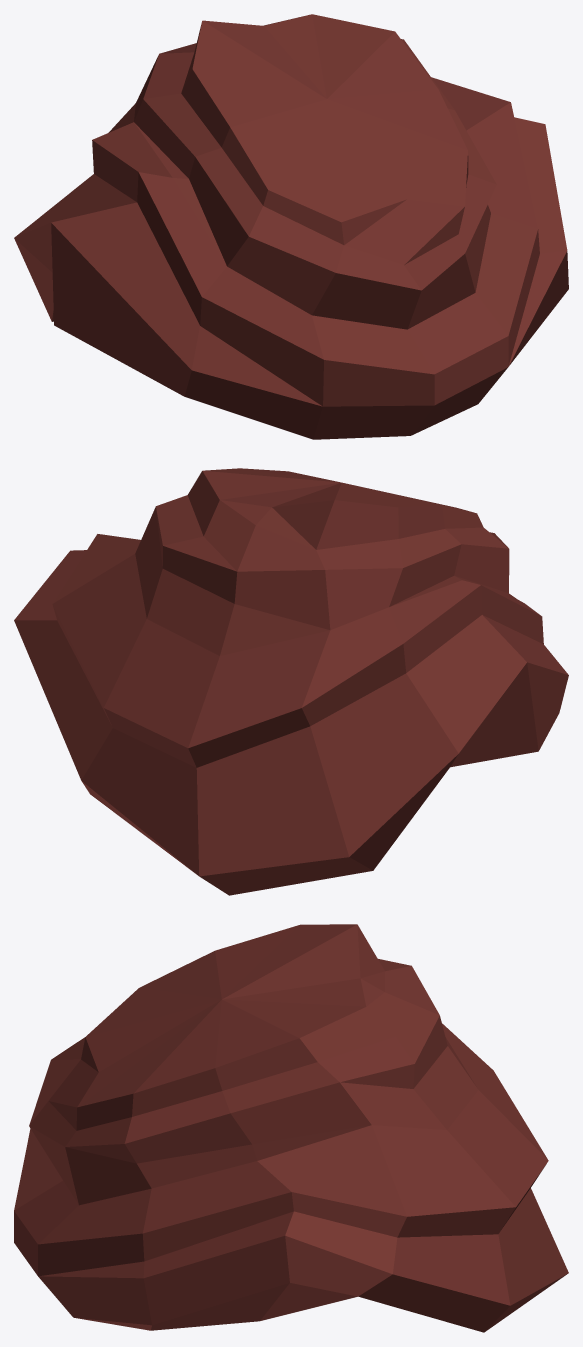
The model's file is SM_Chr_Attach_Insurgent_Neck_03.fbx.
3 renders of one model, top to bottom at view 1: azimuth 30°, elevation 25°; view 2: azimuth 150°, elevation 25°; view 3: azimuth 270°, elevation 25°, orthographic. The views are drawn at different scales.
Visible parts, largest first — view 1: SM_Chr_Attach_Insurgent_Neck_03; view 2: SM_Chr_Attach_Insurgent_Neck_03; view 3: SM_Chr_Attach_Insurgent_Neck_03.
Part boxes in pixels (left/top/right/bottom): SM_Chr_Attach_Insurgent_Neck_03: left=14, top=14, right=568, bottom=439; SM_Chr_Attach_Insurgent_Neck_03: left=14, top=468, right=568, bottom=895; SM_Chr_Attach_Insurgent_Neck_03: left=14, top=924, right=568, bottom=1332.
Bounding box in the file's own units: 35.79 × 24.36 × 33.67.
